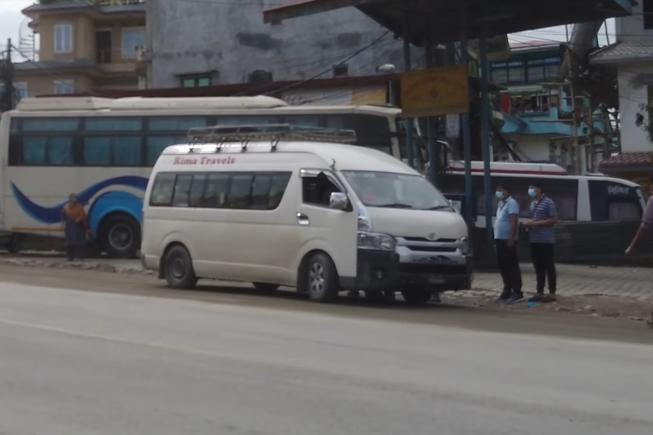micro_bus: (129, 124, 477, 311)
